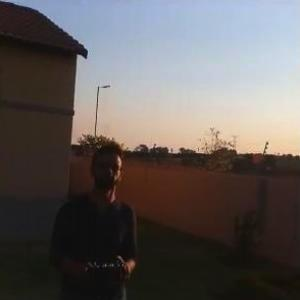follow: (44, 140, 142, 299)
